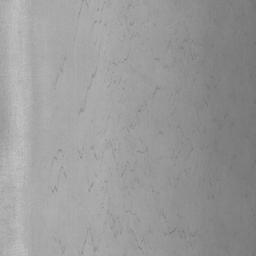Silk spot: (164, 227, 186, 239), (112, 53, 129, 66)
